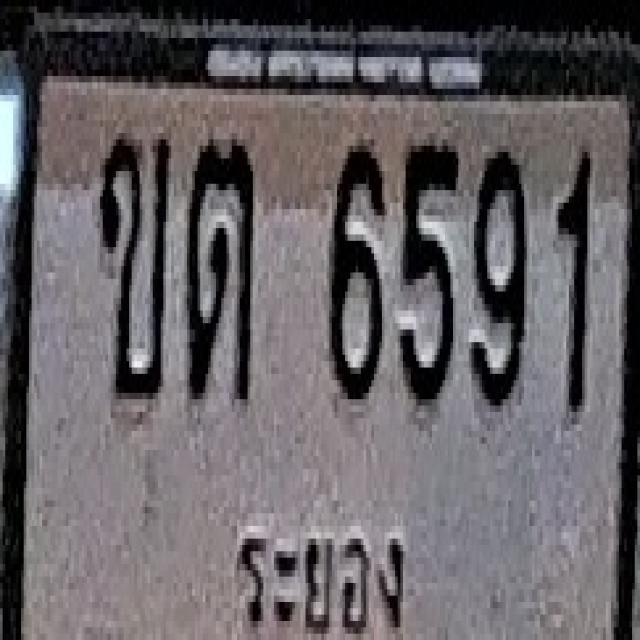1: (556, 146, 590, 412)
5: (399, 140, 457, 406)
6: (328, 140, 383, 400)
9: (470, 146, 526, 406)
A02: (99, 133, 170, 399)
A21: (186, 136, 254, 402)
RYG: (223, 498, 407, 640)
